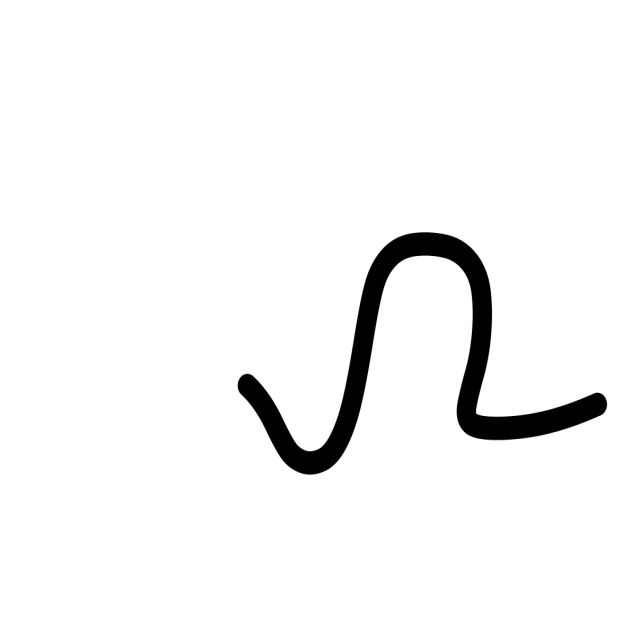ohms: (121, 98, 611, 538)
